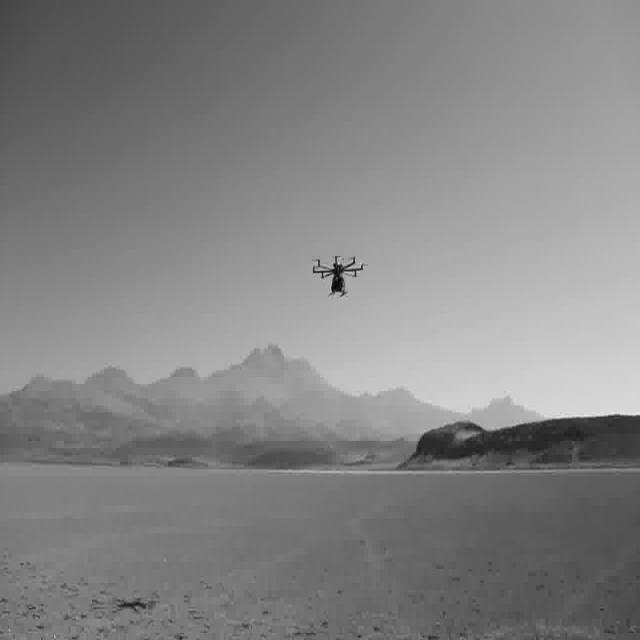drone: (311, 248, 365, 302)
